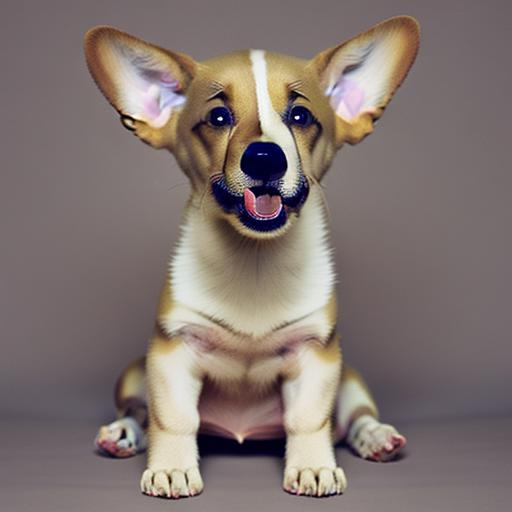eye: (205, 101, 240, 132), (286, 100, 318, 129)
